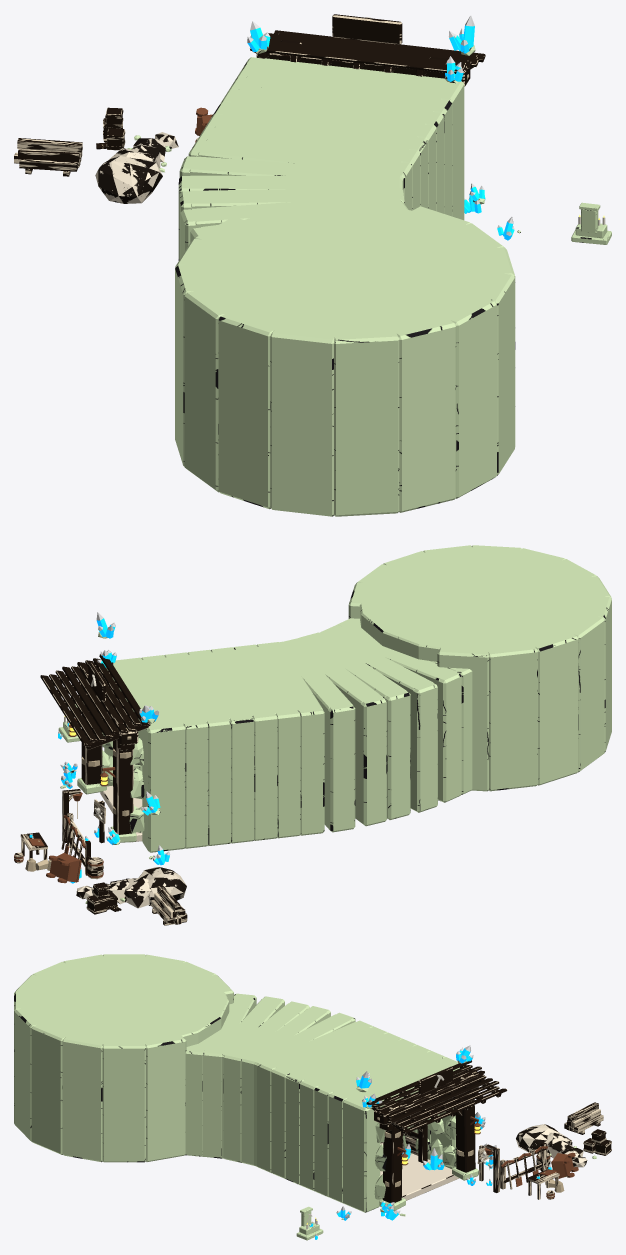
The model's file is LOBBY_04_MINE_9df2fe.fbx.
3 views of the same model, one above another, from view 1: azimuth 30°, elevation 25°; view 2: azimuth 150°, elevation 25°; view 3: azimuth 270°, elevation 25° (orthographic). The views are drawn at different scales.
Parts seen in each view (by area): view 1: MINE_Tunnel_Shell__Cliff_Rock_Dark, MINE_Entrance_Portal__Wood_Plank_B, MINE_Entrance_Portal__Wood_Dark, MINE_Entrance_Portal__Dirt, MINE_Entrance_Portal__Crystal_Blue, MINE_Entrance_Portal__Cliff_Rock_Dark_B, MINE_Entrance_Portal__Wood_Dark_B; view 2: MINE_Tunnel_Shell__Cliff_Rock_Dark, MINE_Entrance_Portal__Wood_Plank_B, MINE_Entrance_Portal__Wood_Dark, MINE_Entrance_Portal__Dirt, MINE_Entrance_Portal__Metal_Rust, MINE_Entrance_Portal__Crystal_Blue, MINE_Entrance_Portal__Cliff_Rock_Dark_B, MINE_Entrance_Portal__Wood_Dark_B, MINE_Entrance_Portal__Crystal_Blue_Core, MINE_Entrance_Portal__Rope; view 3: MINE_Tunnel_Shell__Cliff_Rock_Dark, MINE_Entrance_Portal__Wood_Plank_B, MINE_Entrance_Portal__Wood_Dark, MINE_Entrance_Portal__Dirt, MINE_Tunnel_Shell__Dirt, MINE_Entrance_Portal__Crystal_Blue, MINE_Entrance_Portal__Metal_Rust, MINE_Entrance_Portal__Cliff_Rock_Dark_B, MINE_Entrance_Portal__Crystal_Blue_Core, MINE_Entrance_Portal__Wood_Dark_B, MINE_Entrance_Portal__Rope.
Boxes of the visible parts, <box> form: MINE_Tunnel_Shell__Cliff_Rock_Dark: <box>175,57,515,516</box>; MINE_Entrance_Portal__Wood_Plank_B: <box>14,30,485,171</box>; MINE_Entrance_Portal__Wood_Dark: <box>25,14,473,176</box>; MINE_Entrance_Portal__Dirt: <box>95,132,178,203</box>; MINE_Entrance_Portal__Crystal_Blue: <box>247,25,514,240</box>; MINE_Entrance_Portal__Cliff_Rock_Dark_B: <box>127,45,611,244</box>; MINE_Entrance_Portal__Wood_Dark_B: <box>96,107,124,150</box>; MINE_Tunnel_Shell__Cliff_Rock_Dark: <box>102,545,611,852</box>; MINE_Entrance_Portal__Wood_Plank_B: <box>14,654,187,924</box>; MINE_Entrance_Portal__Wood_Dark: <box>21,662,186,925</box>; MINE_Entrance_Portal__Dirt: <box>76,867,186,908</box>; MINE_Entrance_Portal__Metal_Rust: <box>14,718,115,883</box>; MINE_Entrance_Portal__Crystal_Blue: <box>29,618,169,883</box>; MINE_Entrance_Portal__Cliff_Rock_Dark_B: <box>38,632,160,903</box>; MINE_Entrance_Portal__Wood_Dark_B: <box>87,799,121,914</box>; MINE_Entrance_Portal__Crystal_Blue_Core: <box>30,612,169,869</box>; MINE_Entrance_Portal__Rope: <box>25,701,131,908</box>; MINE_Tunnel_Shell__Cliff_Rock_Dark: <box>14,954,459,1212</box>; MINE_Entrance_Portal__Wood_Plank_B: <box>366,1060,603,1199</box>; MINE_Entrance_Portal__Wood_Dark: <box>372,1065,611,1202</box>; MINE_Entrance_Portal__Dirt: <box>516,1124,587,1167</box>; MINE_Tunnel_Shell__Dirt: <box>380,1142,459,1200</box>; MINE_Entrance_Portal__Crystal_Blue: <box>309,1048,551,1239</box>; MINE_Entrance_Portal__Metal_Rust: <box>397,1116,578,1198</box>; MINE_Entrance_Portal__Cliff_Rock_Dark_B: <box>296,1060,596,1240</box>; MINE_Entrance_Portal__Crystal_Blue_Core: <box>309,1045,552,1236</box>; MINE_Entrance_Portal__Wood_Dark_B: <box>477,1129,611,1163</box>; MINE_Entrance_Portal__Rope: <box>377,1071,564,1192</box>.
Size of the model in its own units: 61.86 by 23.8 by 88.37.
13 materials, 3 textured.
